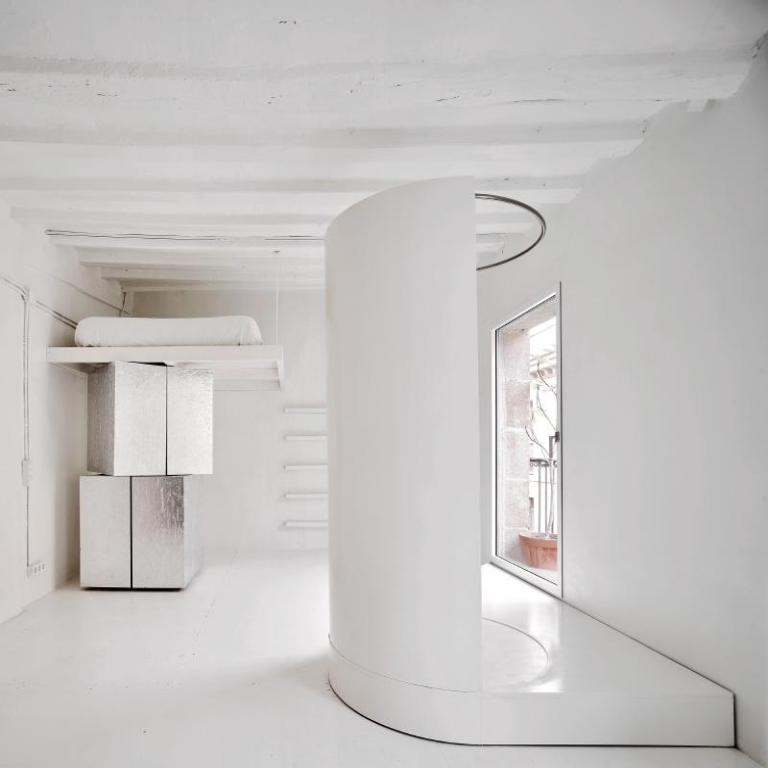white-walls: (581, 150, 742, 676)
